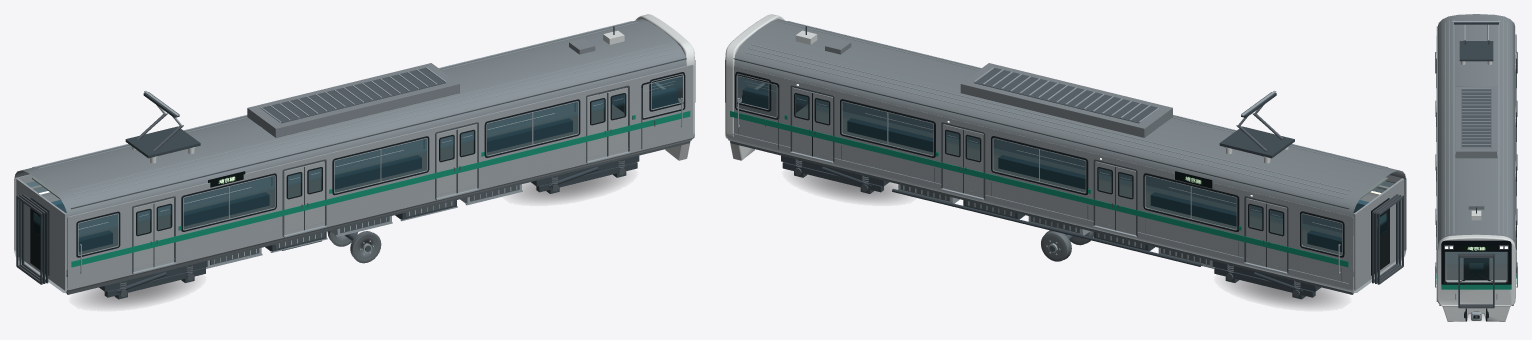
File: saikyo.glb
3 renders of one model, left to right at view 1: azimuth 30°, elevation 25°; view 2: azimuth 150°, elevation 25°; view 3: azimuth 270°, elevation 25°, orthographic. The views are drawn at different scales.
Parts seen in each view (by area): view 1: body__ROOF, body__STAINLESS, body__STAINLESS.001, body__GLASS.001, body__GLASS, body__DOOR_STEEL, body__TRIM, body__ALUMINIUM.001, body__INTERIOR, body__TRIM.001, body__ALUMINIUM, body__LIVERY_0.001 (+17 smaller); view 2: body__ROOF, body__STAINLESS, body__GLASS.001, body__GLASS, body__STAINLESS.001, body__DOOR_STEEL, body__TRIM, body__ALUMINIUM.001, body__ALUMINIUM, body__INTERIOR, body__TRIM.001, body__LIVERY_0.001 (+17 smaller); view 3: body__ROOF, cab-shell__CAB_PAINT, body__ALUMINIUM.001, body__TRIM, body__CAB_GLASS, body__STAINLESS.001, body__ALUMINIUM, body__TRIM.001, roof-housing__ROOF, body__CAB_MASK, body__MACHINERY.002, body__RUBBER.001 (+12 smaller).
Part boxes in pixels (x1,y1,x2,y2): body__ROOF: (22,19,685,217); body__STAINLESS: (14,65,693,292); body__STAINLESS.001: (14,65,693,292); body__GLASS.001: (26,76,682,254); body__GLASS: (26,77,682,254); body__DOOR_STEEL: (80,87,627,271); body__TRIM: (17,68,689,296); body__ALUMINIUM.001: (35,20,683,274); body__INTERIOR: (32,103,624,271); body__TRIM.001: (17,58,686,294); body__ALUMINIUM: (32,21,683,273); body__LIVERY_0.001: (71,111,690,267); body__ROOF: (734,19,1397,217); body__STAINLESS: (727,66,1405,292); body__GLASS.001: (737,76,1393,254); body__GLASS: (738,76,1394,254); body__STAINLESS.001: (728,66,1406,292); body__DOOR_STEEL: (792,87,1340,271); body__TRIM: (730,68,1402,296); body__ALUMINIUM.001: (731,20,1384,284); body__ALUMINIUM: (731,21,1394,283); body__INTERIOR: (796,105,1388,271); body__TRIM.001: (733,58,1400,294); body__LIVERY_0.001: (730,111,1348,267); body__ROOF: (1437,14,1514,243); cab-shell__CAB_PAINT: (1437,234,1515,306); body__ALUMINIUM.001: (1435,20,1517,287); body__TRIM: (1436,67,1516,319); body__CAB_GLASS: (1445,252,1507,282); body__STAINLESS.001: (1436,26,1515,279); body__ALUMINIUM: (1435,22,1517,299); body__TRIM.001: (1438,23,1516,308); roof-housing__ROOF: (1455,86,1497,158); body__CAB_MASK: (1441,240,1511,284); body__MACHINERY.002: (1454,22,1498,61); body__RUBBER.001: (1436,51,1516,280).
Size of the model in its own units: 20.54 by 5.93 by 3.1.
20 materials, 6 textured.
